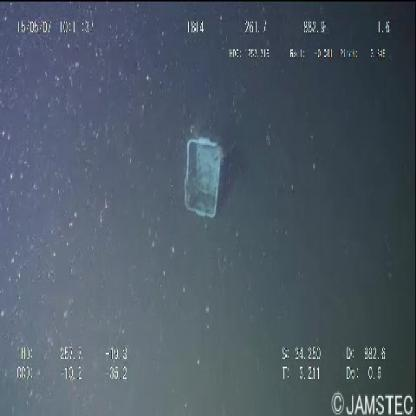Rác: (181, 123, 233, 228)
